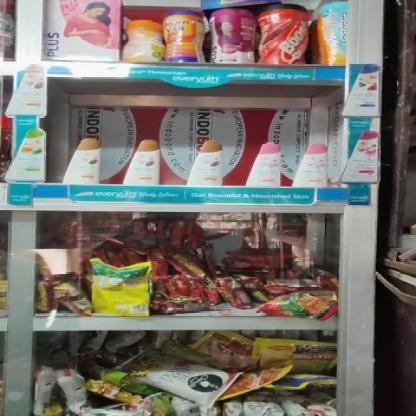Everyuth Naturals Body Lotion Nourishing Cocoa 200ml: (122, 140, 166, 186), (66, 137, 103, 184), (192, 140, 230, 184)
Everyuth Naturals Body Lotion Rejuvenating Flora 200ml: (249, 142, 288, 186), (295, 140, 332, 185)
